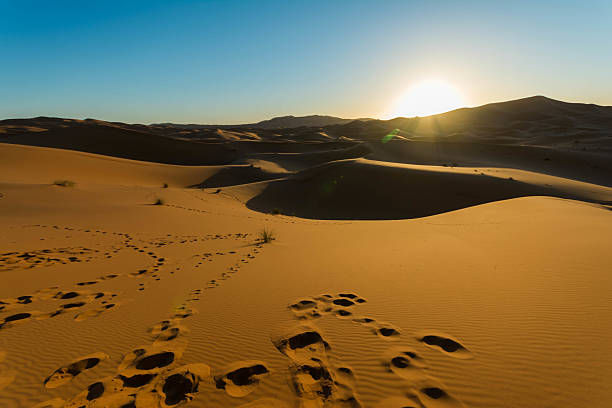human_footprint: (58, 304, 268, 407), (289, 292, 472, 407), (60, 336, 209, 407), (41, 354, 215, 406), (272, 323, 361, 407), (61, 363, 209, 407), (0, 287, 116, 328), (0, 287, 117, 327), (43, 352, 107, 387), (0, 247, 97, 270), (119, 343, 183, 376), (214, 360, 269, 396), (289, 293, 365, 319), (148, 306, 195, 343), (416, 331, 473, 358), (382, 346, 427, 379), (0, 311, 41, 328), (0, 351, 16, 390)
